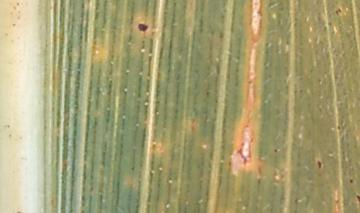tarspot: (137, 22, 149, 33), (317, 158, 322, 169), (336, 124, 342, 132), (356, 193, 360, 203), (273, 147, 279, 153), (336, 8, 341, 15), (349, 179, 354, 184)
